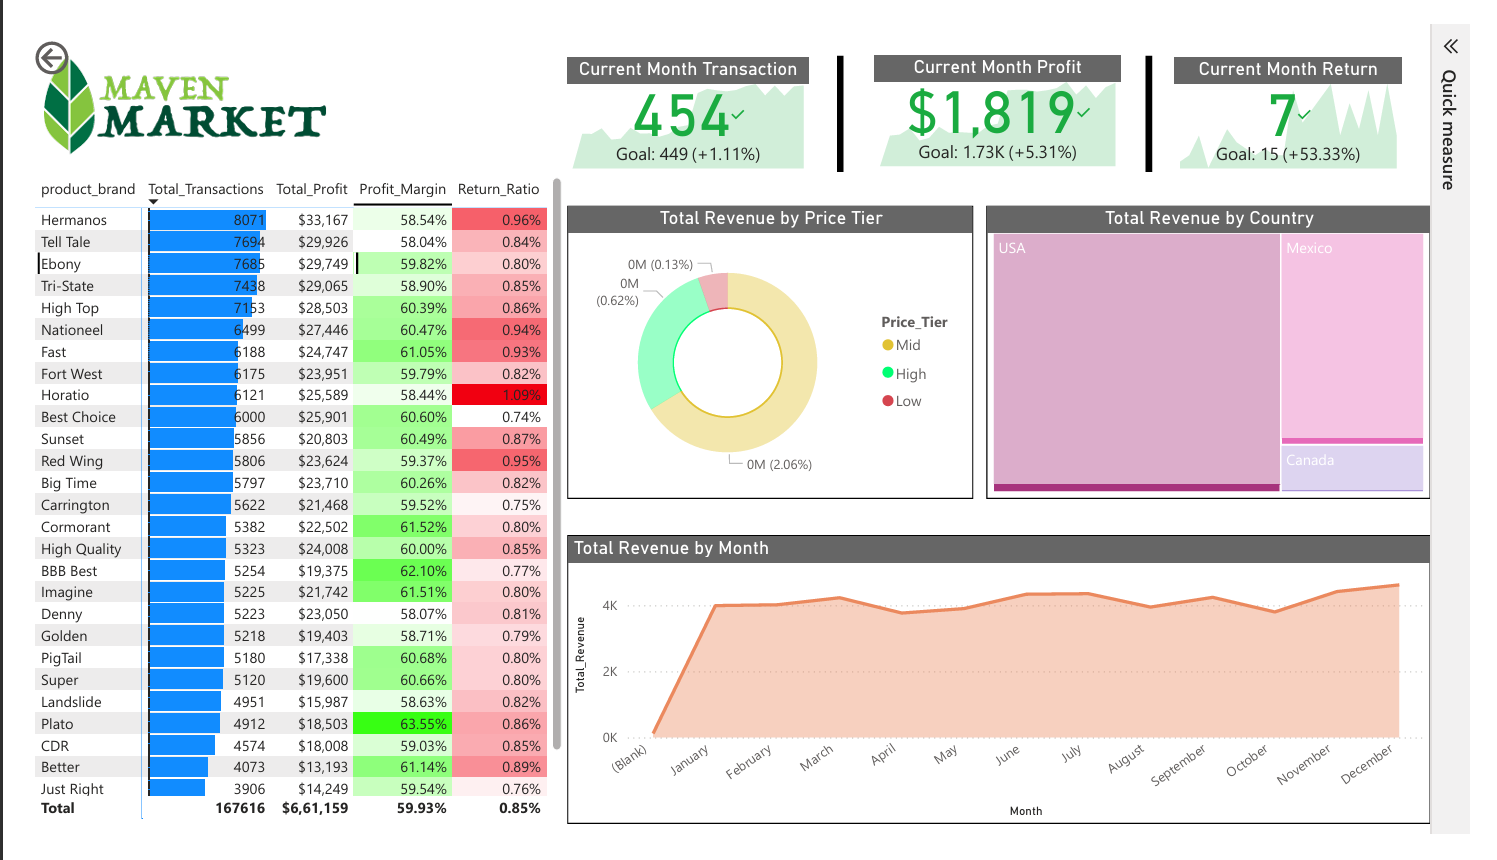

The page's visual inventory and layout, read from the dashboard file:
{"tool":"powerbi","page":{"name":"Page 2","canvas":[1280,720],"ordinal":1},"visuals":[{"type":"image","box":[0,0,281,123.7],"z":0},{"type":"pivotTable","fields":{"Rows":["Products.product_brand"],"Values":["Products.Total_Transactions","Products.Total_Profit","Products.Profit_Margin","Products.Return_Ratio"]},"box":[0,123.7,491.1,596.8],"z":1000},{"type":"actionButton","box":[0,0,100,40],"z":2000},{"type":"kpi","title":"Current Month Transaction","fields":{"Indicator":["Products.Total_Transactions"],"TrendLine":["Calendar.Start of Month"],"Goal":["Products.Last_Month_Transactions"]},"box":[491.1,20.4,220.9,105.7],"z":3000},{"type":"kpi","title":"Current Month Profit","fields":{"TrendLine":["Calendar.Start of Month"],"Indicator":["Products.Total_Profit"],"Goal":["Products.Last_Month_Profit"]},"box":[772.1,18,224.5,105.7],"z":4000},{"type":"kpi","title":"Current Month Return","fields":{"TrendLine":["Calendar.Start of Month"],"Goal":["Products.Last_Month_Returns"],"Indicator":["Products.Total_Return"]},"box":[1045.9,20.4,207.7,105.7],"z":5000},{"type":"shape","box":[616,18,248.6,105.7],"z":5001},{"type":"shape","box":[898.2,18,248.6,105.7],"z":5002},{"type":"donutChart","title":"Total Revenue by Price Tier","fields":{"Category":["Products.Price_Tier"],"Y":["Products.Total_Revenue"]},"box":[491.1,154.9,371,267.8],"z":5003},{"type":"treemap","title":"Total Revenue by Country","fields":{"Group":["Stores.store_country"],"Values":["Products.Total_Revenue"]},"box":[874.1,154.9,405.9,267.8],"z":5004},{"type":"areaChart","title":"Total Revenue by Month","fields":{"Category":["Calendar.date.Variation.Date Hierarchy.Month"],"Y":["Products.Total_Revenue"]},"box":[491.1,456.3,788.9,264.2],"z":5005}]}

Visuals, with their boxes on the page's 1280x720 design canvas (x1, y1, x2, y2). These are canvas units, not pixel positions in the 1497x860 screenshot, which may show the page scaled, cropped or inside an application window:
image: bbox(0, 0, 281, 124)
pivotTable - Products.product_brand x Products.Total_Transactions: bbox(0, 124, 491, 720)
actionButton: bbox(0, 0, 100, 40)
"Current Month Transaction" kpi: bbox(491, 20, 712, 126)
"Current Month Profit" kpi: bbox(772, 18, 997, 124)
"Current Month Return" kpi: bbox(1046, 20, 1254, 126)
shape: bbox(616, 18, 865, 124)
shape: bbox(898, 18, 1147, 124)
"Total Revenue by Price Tier" donutChart: bbox(491, 155, 862, 423)
"Total Revenue by Country" treemap: bbox(874, 155, 1280, 423)
"Total Revenue by Month" areaChart: bbox(491, 456, 1280, 720)
